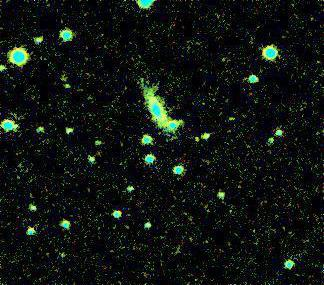star: (183, 126, 213, 156)
